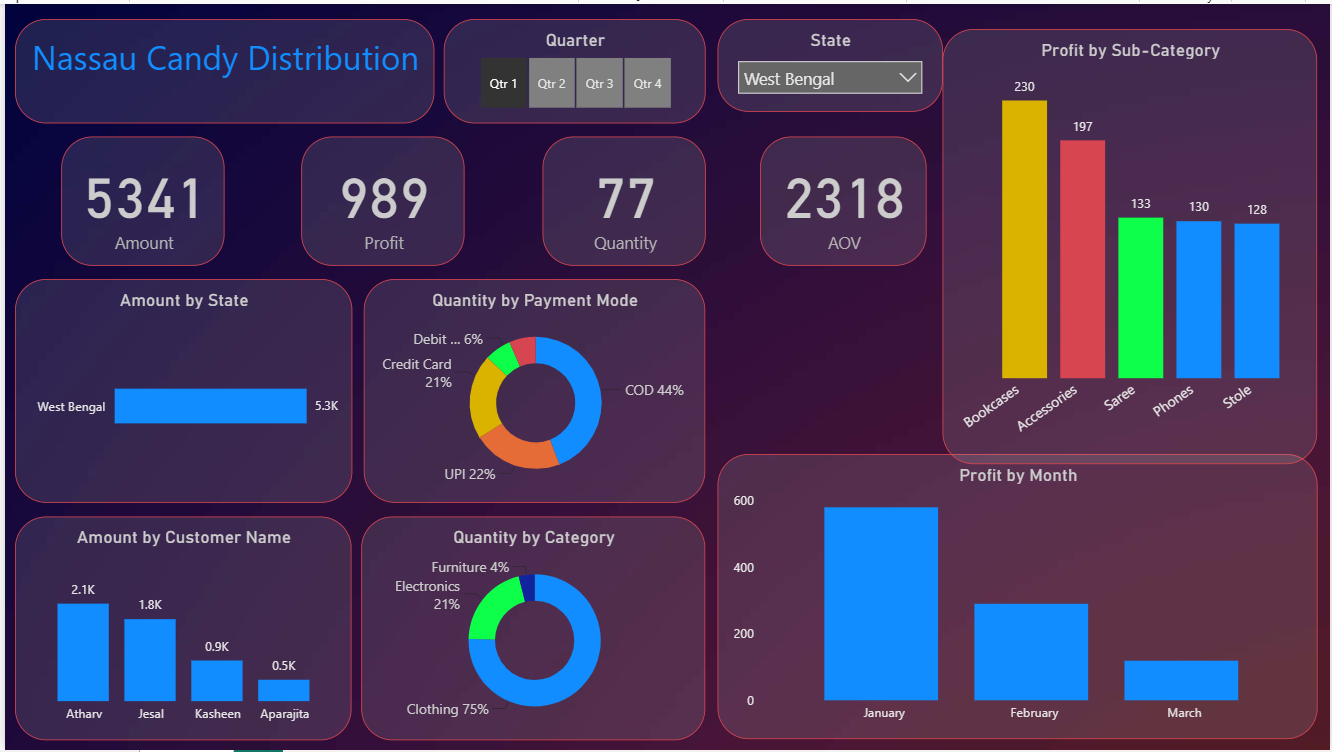

The page's visual inventory and layout, read from the dashboard file:
{"tool":"powerbi","page":{"name":"Page 1","canvas":[1280,720],"ordinal":0},"visuals":[{"type":"textbox","box":[9.9,14.2,404.7,100.8],"z":0},{"type":"columnChart","fields":{"Category":["Orders.Order Date.Variation.Date Hierarchy.Month"],"Y":["Sum(Details.Profit)"]},"box":[687.3,434.6,579.4,275.5],"z":1000},{"type":"clusteredColumnChart","fields":{"Category":["Details.Sub-Category"],"Y":["Sum(Details.Profit)"]},"box":[904.8,24.1,361.9,419.8],"z":2000},{"type":"donutChart","fields":{"Category":["Details.Category"],"Y":["Sum(Details.Quantity)"]},"box":[343.7,494.2,332.3,215.9],"z":3000},{"type":"donutChart","fields":{"Category":["Details.PaymentMode"],"Y":["Sum(Details.Quantity)"]},"box":[346.5,265.6,329.5,215.9],"z":4000},{"type":"card","fields":{"Values":["Sum(Details.Amount)"]},"box":[54.3,127.9,157.6,125],"z":5000},{"type":"card","fields":{"Values":["Sum(Details.Profit)"]},"box":[285.9,127.9,157.6,125],"z":6000},{"type":"card","fields":{"Values":["Sum(Details.Quantity)"]},"box":[518.8,127.9,157.6,125],"z":7000},{"type":"card","fields":{"Values":["Sum(Details.AOV)"]},"box":[728.7,127.9,160.5,125],"z":8000},{"type":"barChart","fields":{"Category":["Orders.State"],"Y":["Sum(Details.Amount)"]},"box":[9.9,265.6,325.2,215.9],"z":9000},{"type":"columnChart","fields":{"Category":["Orders.Customer Name"],"Y":["Sum(Details.Amount)"]},"box":[10,494.2,325,216],"z":10000},{"type":"slicer","title":"Quarter","fields":{"Values":["Orders.Order Date.Variation.Date Hierarchy.Quarter"]},"box":[423.2,14.2,252.8,100.8],"z":11000},{"type":"slicer","title":"State","fields":{"Values":["Orders.State"]},"box":[687.3,14.2,217.3,89.5],"z":12000}]}

Visuals, with their boxes in screenshot pixels (x1, y1, x2, y2), scaled from the page's 1280x720 canvas onto the 1332x752 screenshot:
textbox: 10 15 431 120
columnChart - Orders.Order Date.Variation.Date Hierarchy.Month x Sum(Details.Profit): 715 454 1318 742
clusteredColumnChart - Details.Sub-Category x Sum(Details.Profit): 942 25 1318 464
donutChart - Details.Category x Sum(Details.Quantity): 358 516 703 742
donutChart - Details.PaymentMode x Sum(Details.Quantity): 361 277 703 503
card - Sum(Details.Amount): 57 134 221 264
card - Sum(Details.Profit): 298 134 462 264
card - Sum(Details.Quantity): 540 134 704 264
card - Sum(Details.AOV): 758 134 925 264
barChart - Orders.State x Sum(Details.Amount): 10 277 349 503
columnChart - Orders.Customer Name x Sum(Details.Amount): 10 516 349 742
"Quarter" slicer: 440 15 703 120
"State" slicer: 715 15 941 108
